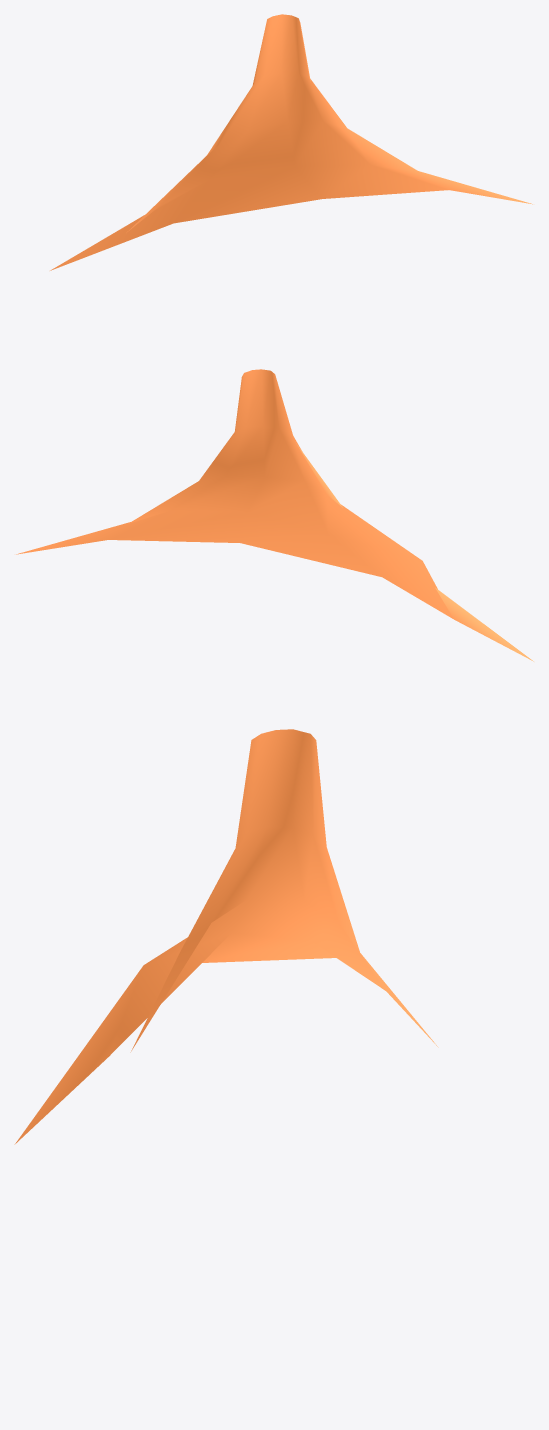
Rendered from prop-volcano-04.glb.
The picture shows the model from 3 angles, top to bottom: view 1: azimuth 30°, elevation 25°; view 2: azimuth 150°, elevation 25°; view 3: azimuth 270°, elevation 25°; orthographic projection. The views are drawn at different scales.
Parts seen in each view (by area): view 1: volcano; view 2: volcano; view 3: volcano.
Part boxes in pixels (<box>): volcano: <box>50,14,532,270</box>; volcano: <box>16,369,533,661</box>; volcano: <box>14,729,438,1144</box>.
Size of the model in its own units: 2.19 by 1 by 1.05.
